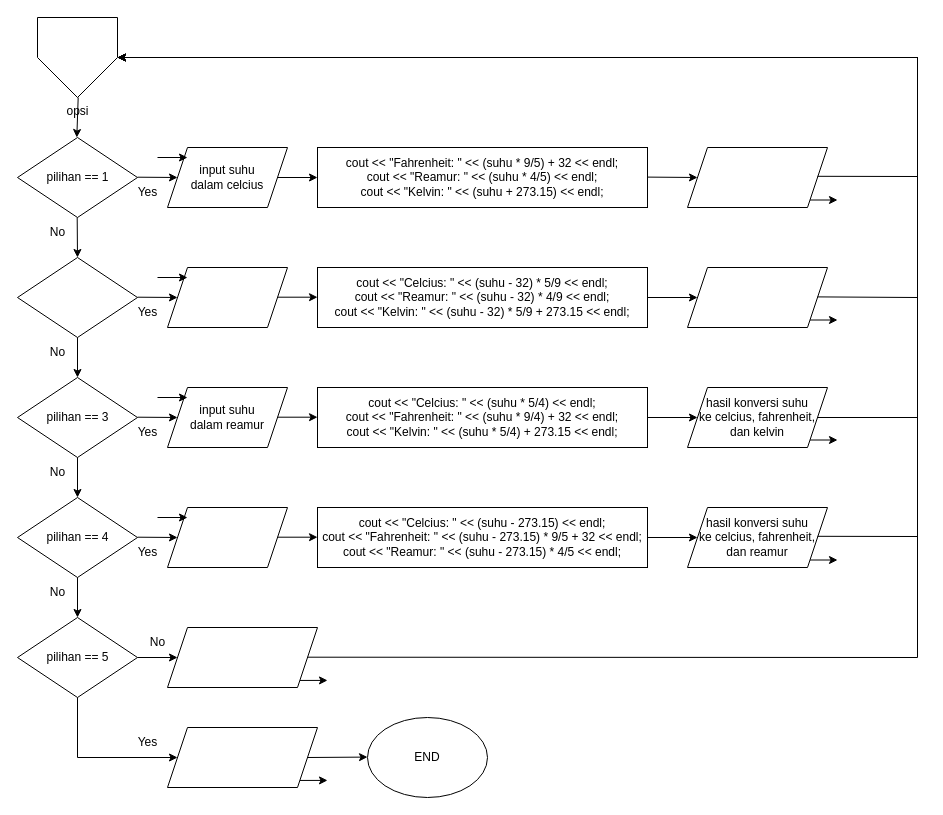
The diagram is 943 pixels wide and 815 high, and some of its shapes have lost their labels. The shapes that lost their labels are listed below. From the top down, each one's centre as x and y in pixels, then its label:
At (x=757, y=177): "hasil konversi suhu ke fahrenheit, reamur, dan kelvin".
At (x=77, y=297): "pilihan == 2".
At (x=227, y=297): "imput suhu dalam fahrenheit".
At (x=757, y=297): "hasil konversi suhu ke celcius, reamur, dan kelvin".
At (x=227, y=537): "input suhu dalam kelvin".
At (x=242, y=657): "pilihan anda tidak valid".
At (x=242, y=757): "keluar dari program".
